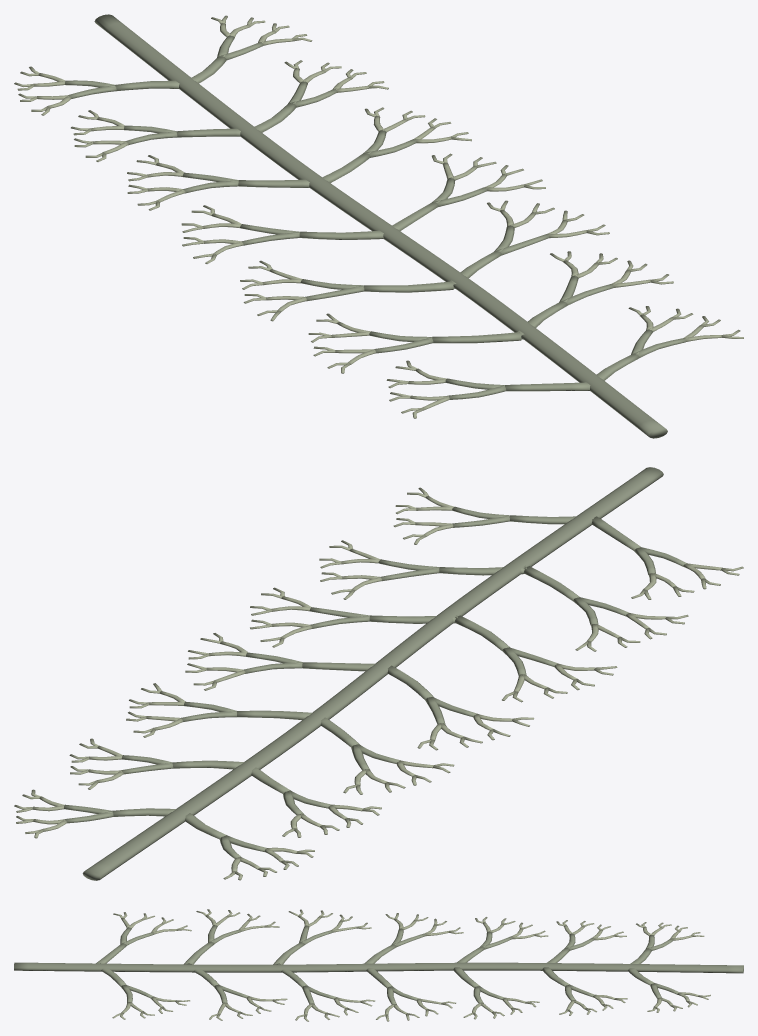
Rendered from eocladus.glb.
3 views of the same model, one above another, from view 1: azimuth 30°, elevation 25°; view 2: azimuth 150°, elevation 25°; view 3: azimuth 270°, elevation 25° (orthographic). The views are drawn at different scales.
Visible parts, largest first — view 1: flattened multi-order cylindrical branchwork, preserved narrow main axis segment without holdfast; view 2: flattened multi-order cylindrical branchwork, preserved narrow main axis segment without holdfast; view 3: flattened multi-order cylindrical branchwork, preserved narrow main axis segment without holdfast.
Part boxes in pixels (left/top/right/bottom): flattened multi-order cylindrical branchwork: left=14, top=15, right=743, bottom=418; preserved narrow main axis segment without holdfast: left=94, top=14, right=667, bottom=438; flattened multi-order cylindrical branchwork: left=14, top=487, right=743, bottom=880; preserved narrow main axis segment without holdfast: left=82, top=467, right=663, bottom=880; flattened multi-order cylindrical branchwork: left=96, top=909, right=710, bottom=1021; preserved narrow main axis segment without holdfast: left=14, top=962, right=743, bottom=973.
Bounding box in the file's own units: 0.0534 × 0.00131 × 0.1471.
